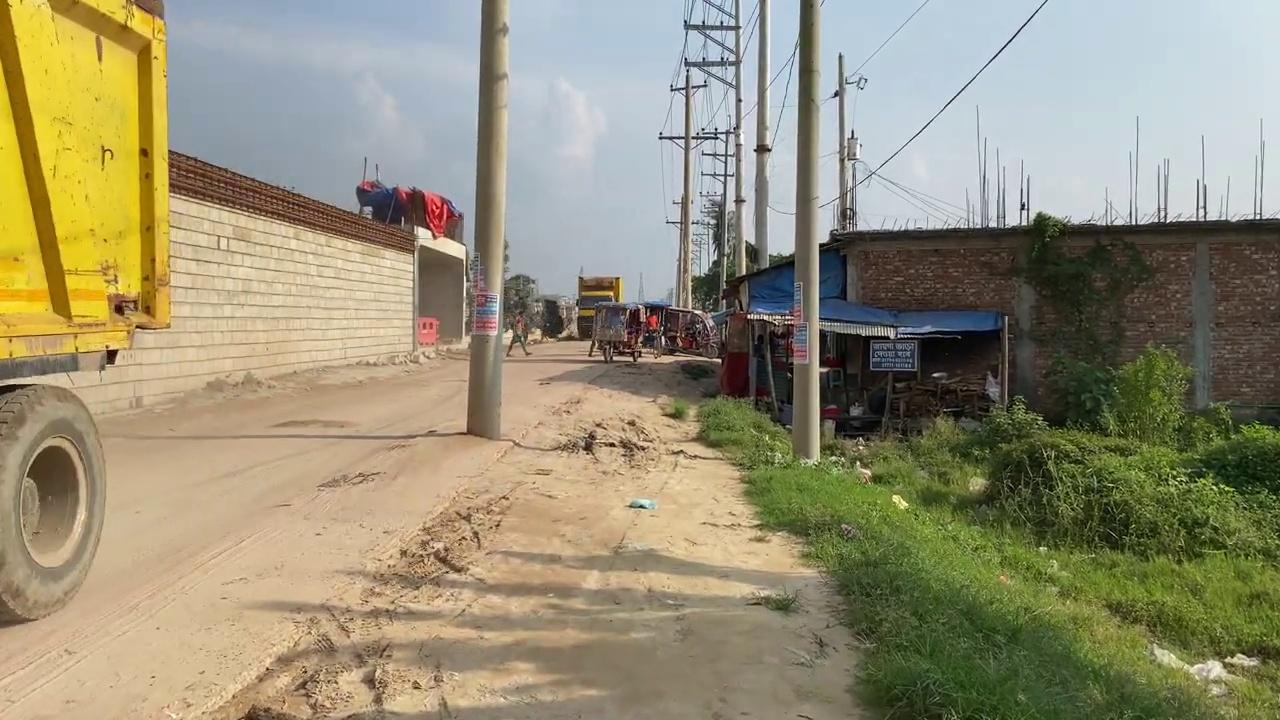Pole: (465, 1, 510, 439), (790, 0, 822, 462), (753, 0, 771, 270)
Rickshaw: (519, 345, 789, 720)
Tree: (0, 0, 172, 624), (575, 268, 622, 340), (503, 273, 538, 328), (532, 296, 567, 340)
Upstairs: (828, 219, 1278, 431), (32, 175, 421, 419)
